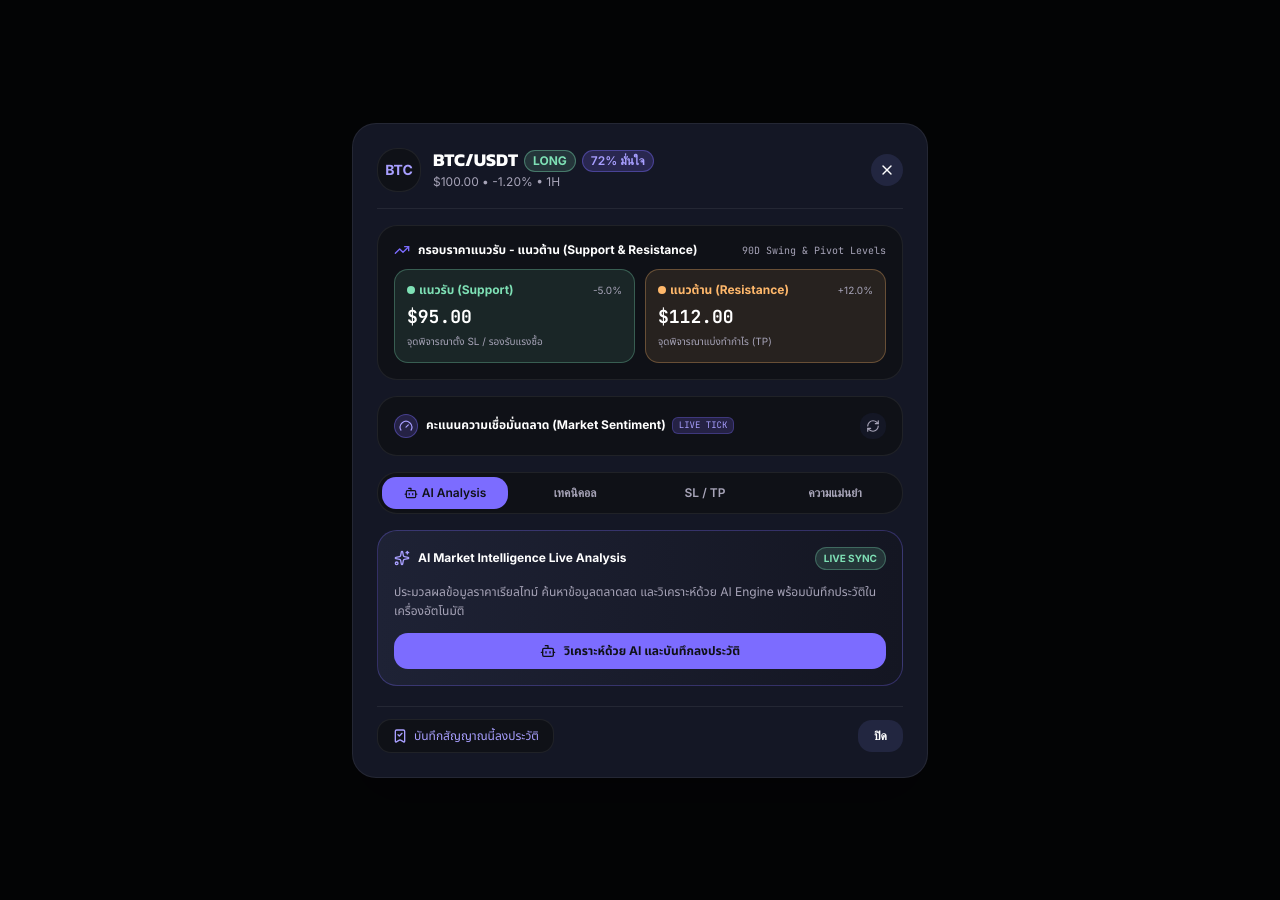
Test case: SignalDetailModal — inconsistent signal › hides the SL/TP numbers and shows the warning
The image size is (1280, 900).
Click the button "SL / TP": click(705, 492) [642,476,768,508]
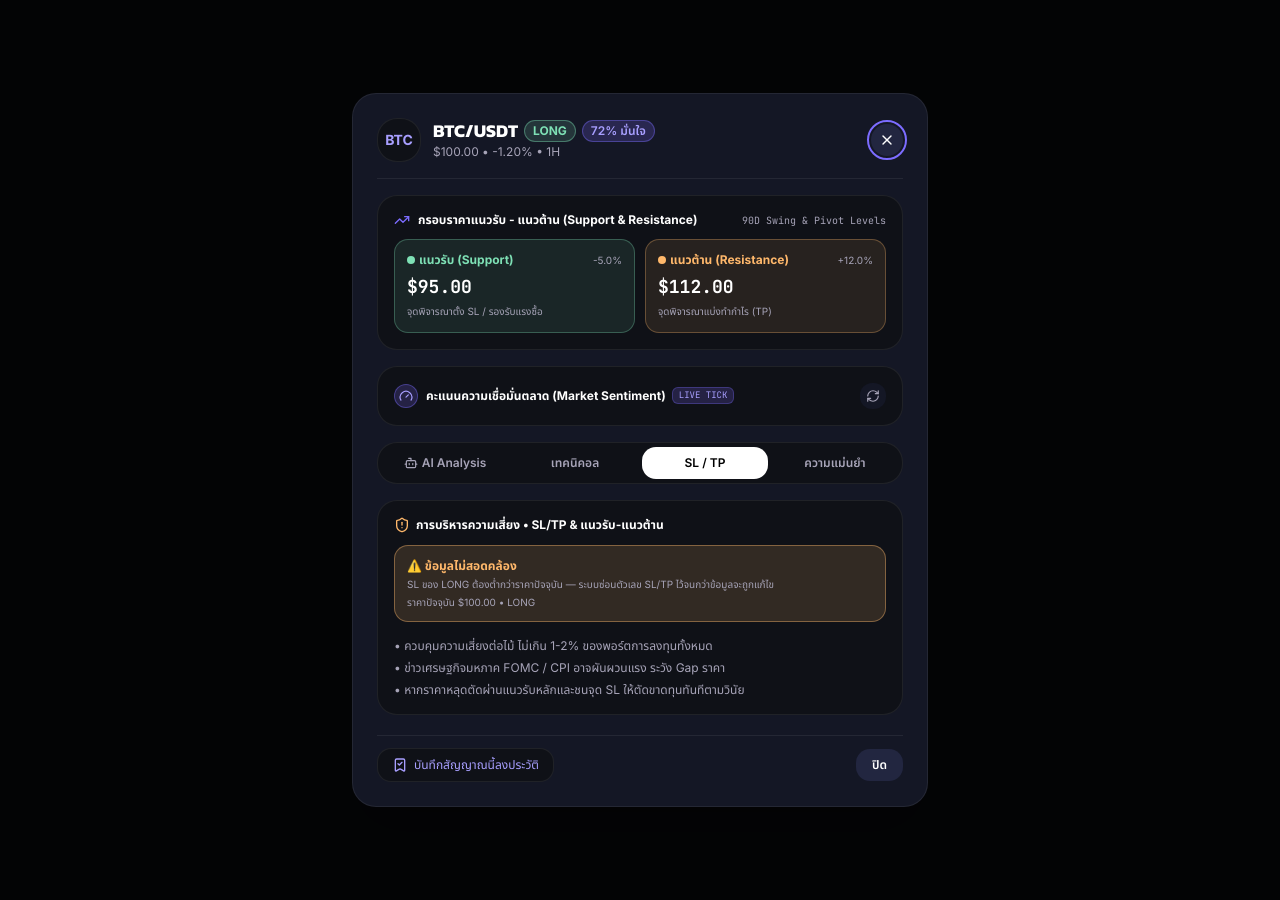
Check: the message with test id "signal-inconsistent-warning" is shown, box [394,545,886,622]
